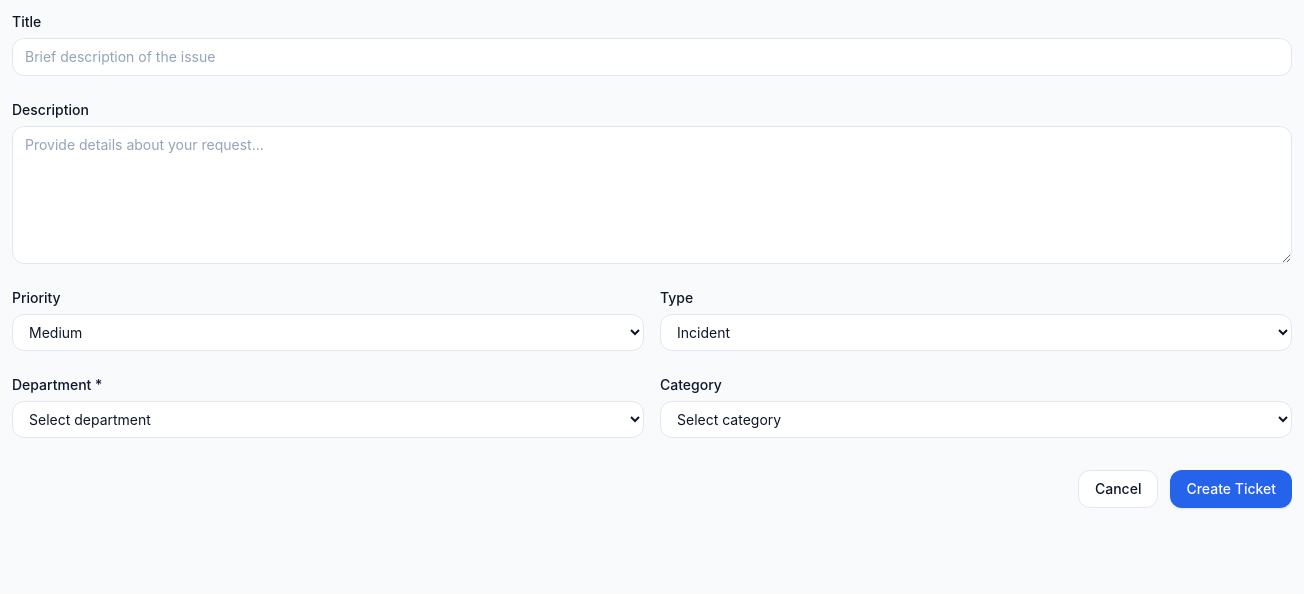
Test case: Part 5: Ticket Creation Form › displays server validation error
In the field labelled "Title": point(652, 57) [12,38,1292,76], type "T"
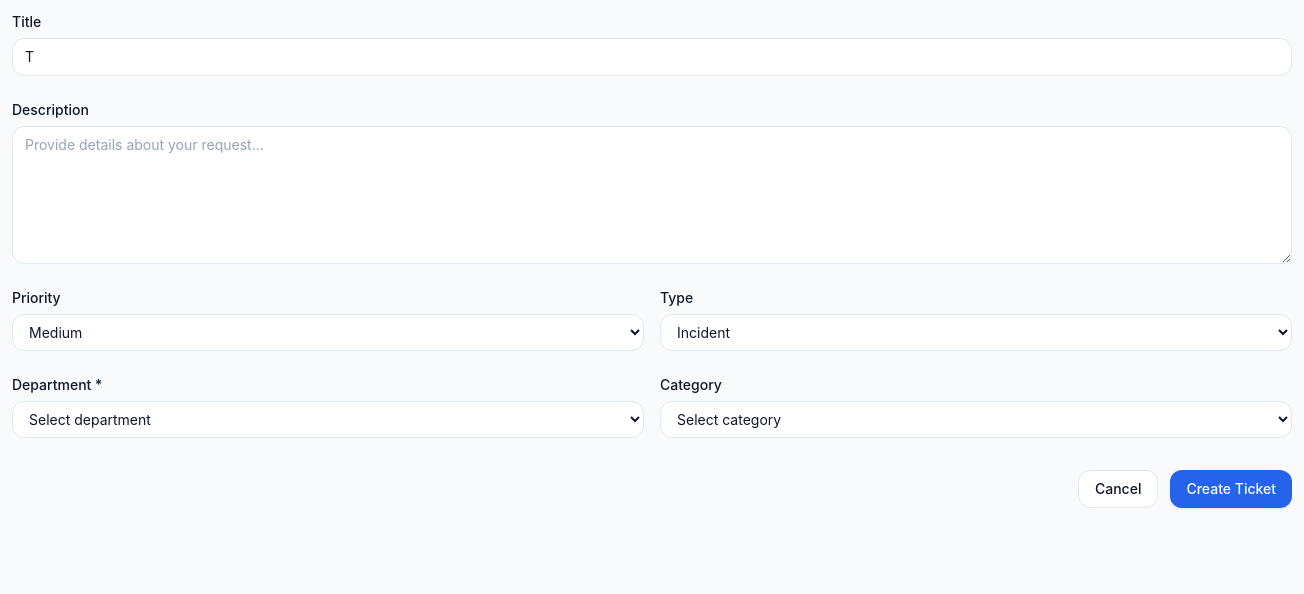
In the text box with placeholder "Provide details about your request...": point(652, 195) [12,126,1292,264], type "D"
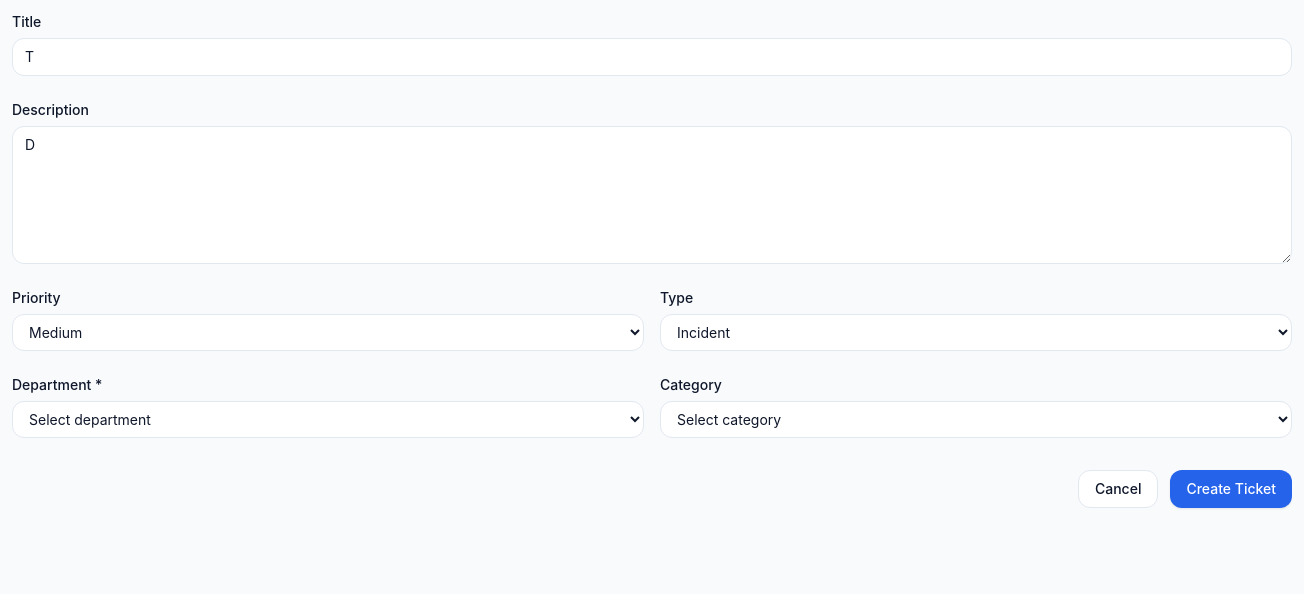
Select "Engineering" in the dropdown below "Department *": point(328, 420) [12,401,644,438]
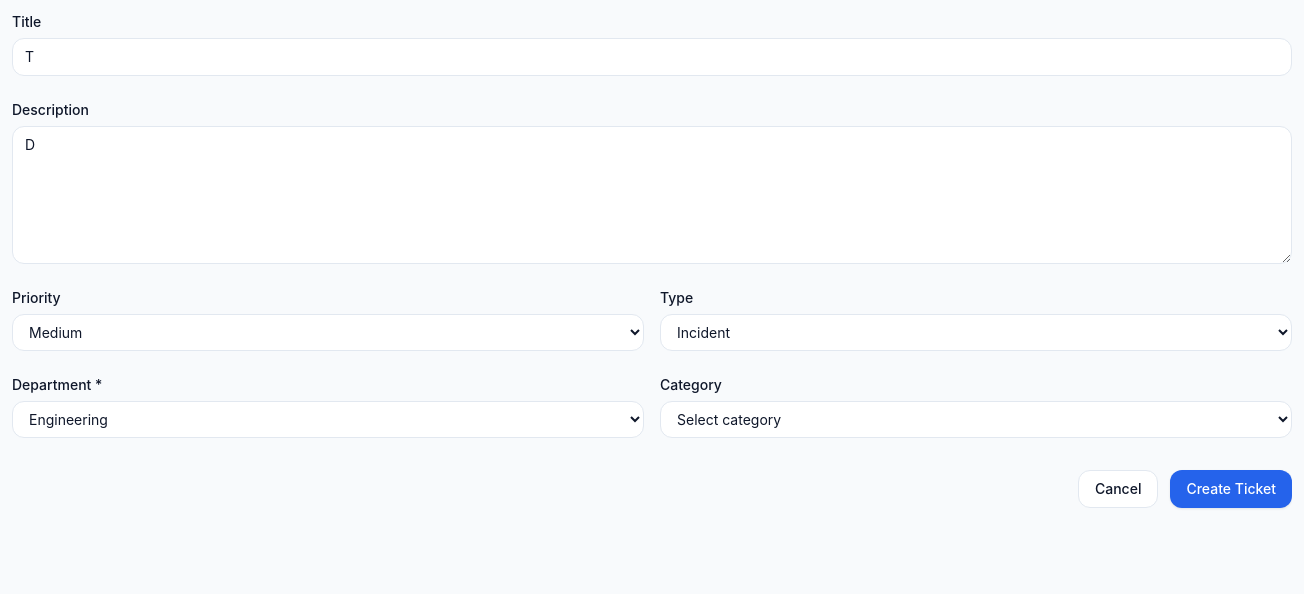
Click the button "Create Ticket": point(1231, 489) [1170,470,1292,508]
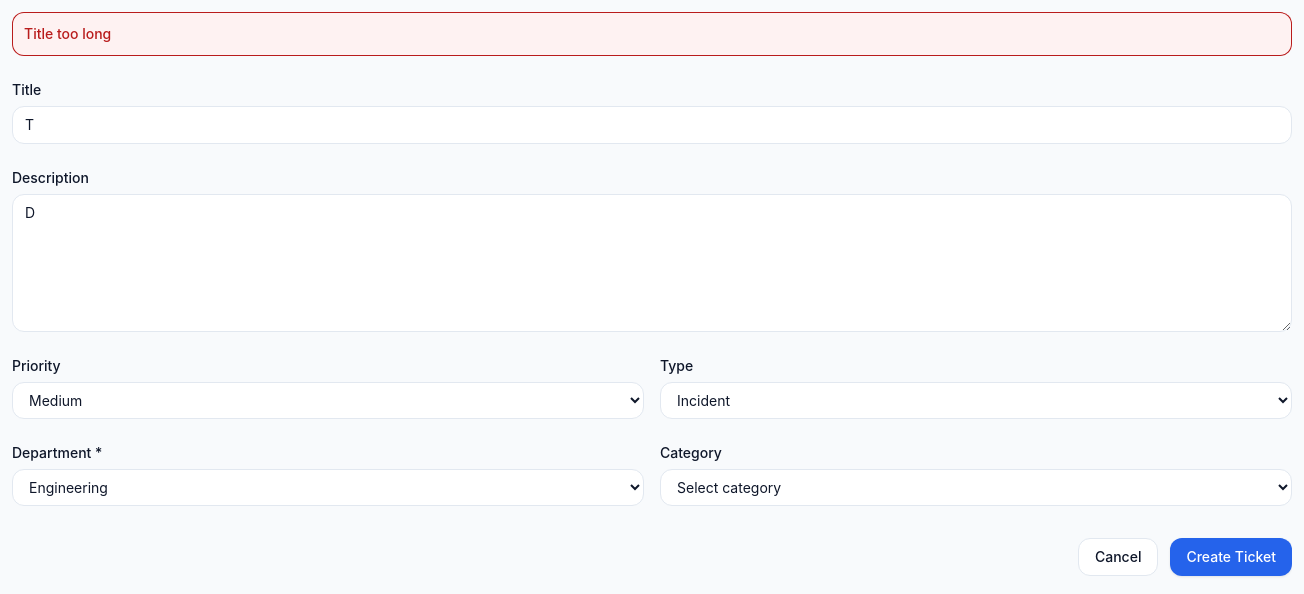
Check: the text "Title too long" is shown, box [12,12,1292,56]
